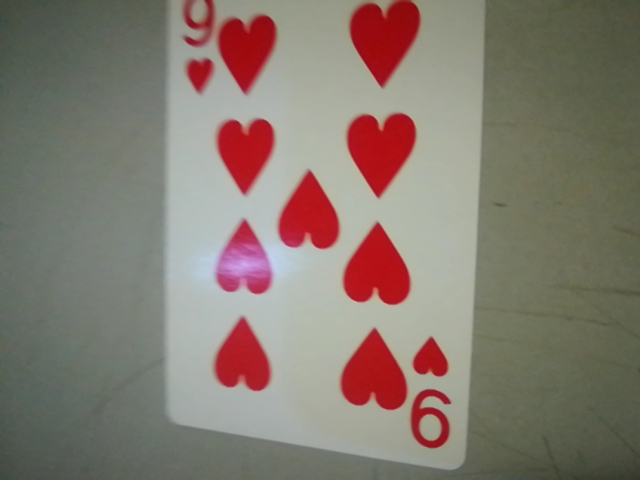hx 9: (404, 331, 464, 460)
